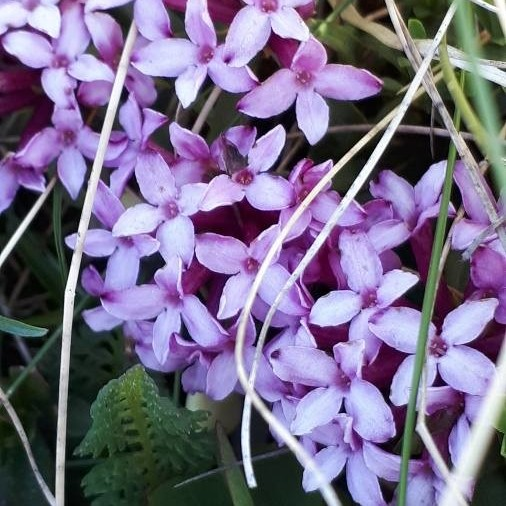obstacle: (57, 50, 449, 472)
